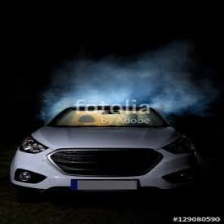smoke: (69, 75, 161, 102)
